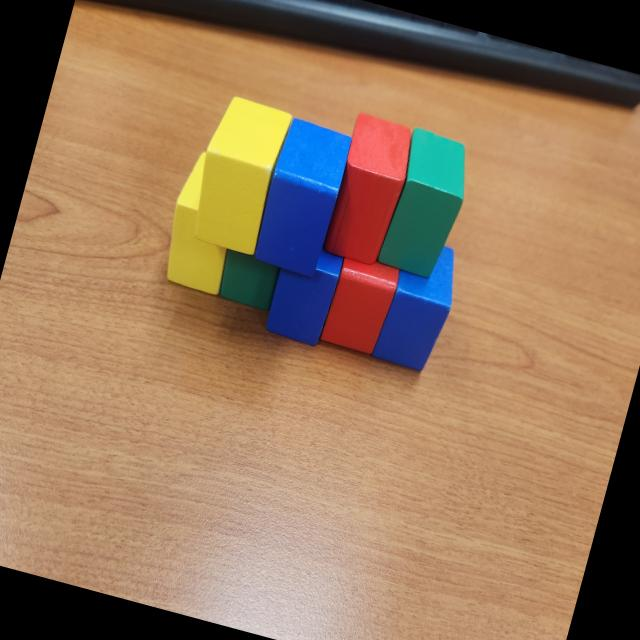blue: (248, 114, 354, 280), (368, 234, 466, 377), (260, 238, 346, 349)
green: (375, 125, 479, 283), (212, 248, 284, 312)
red: (320, 110, 419, 268), (319, 252, 402, 357)
yellow: (183, 91, 293, 256), (154, 148, 254, 298)
